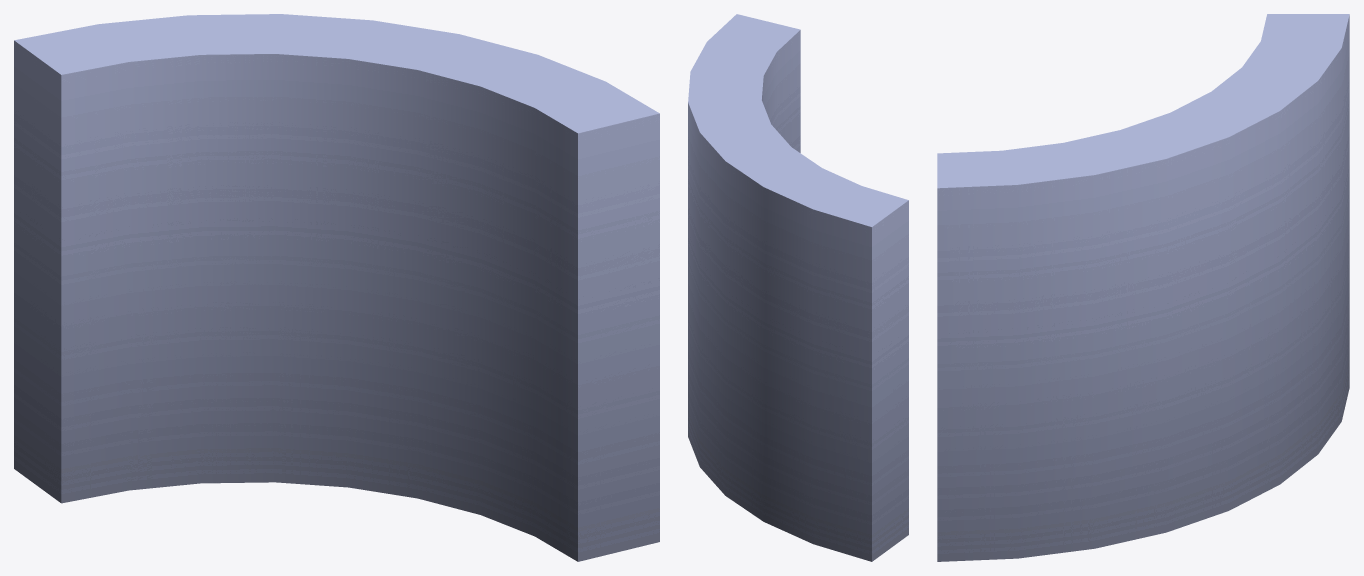
File: wall-round.glb
3 renders of one model, left to right at view 1: azimuth 30°, elevation 25°; view 2: azimuth 150°, elevation 25°; view 3: azimuth 270°, elevation 25°, orthographic. The views are drawn at different scales.
Parts seen in each view (by area): view 1: wall-round; view 2: wall-round; view 3: wall-round.
Boxes of the visible parts, x1,y1,x2,y2 form: wall-round: [14, 14, 659, 561]; wall-round: [688, 14, 908, 561]; wall-round: [937, 14, 1349, 561].
Size of the model in its own units: 1 by 1 by 1.
1 material, 1 textured.
